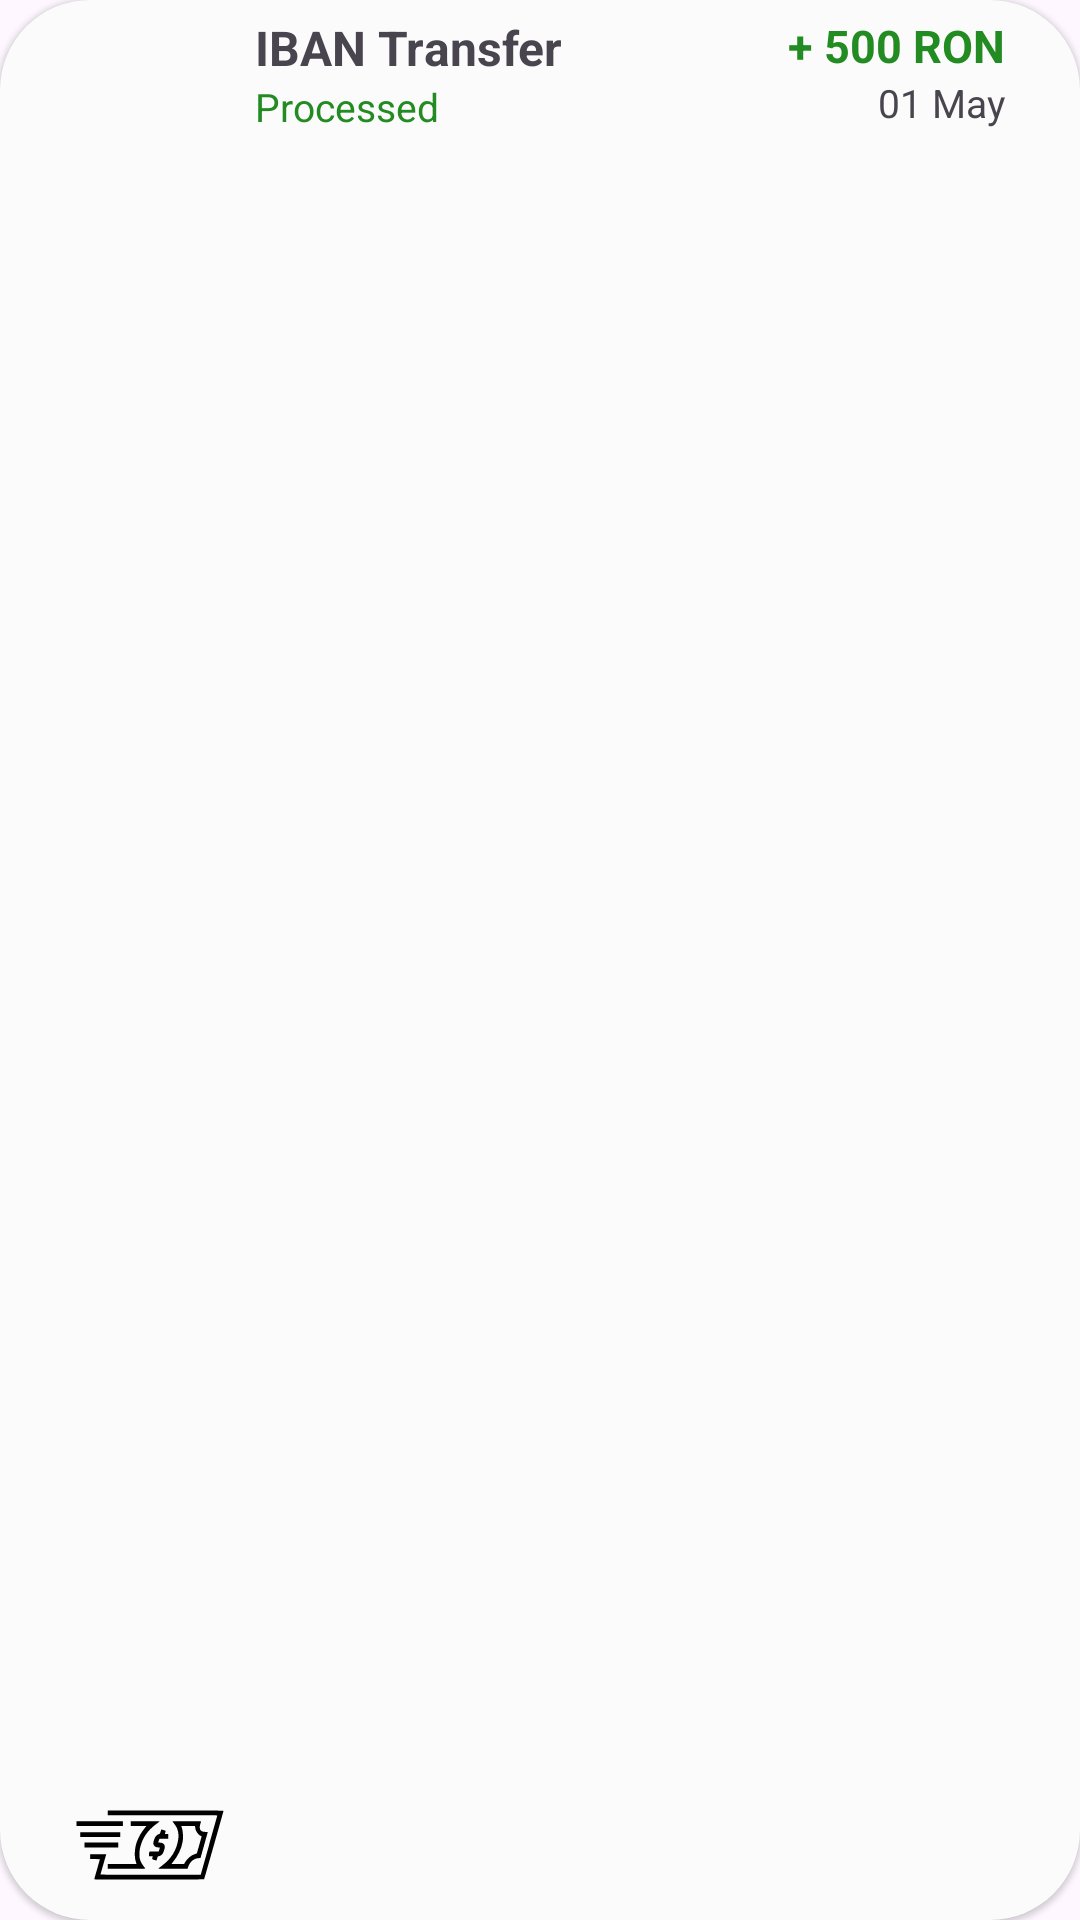

Screen size 1080w x 1920h. Icon name, then its box in pixels as detection(x1, y1, x2, y2):
transfer: detection(76, 1810, 224, 1880)
